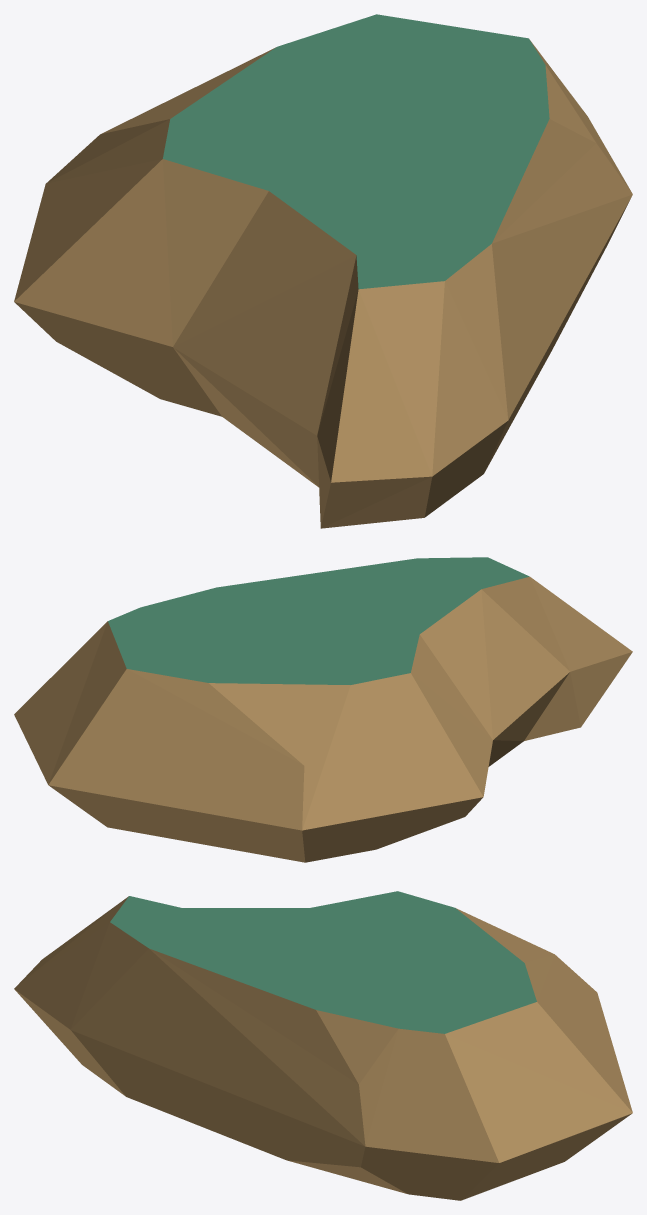
The model's file is Rock_Medium_Mesa_Eroded_Moss_Grass_Flat_01.FBX.
3 renders of one model, top to bottom at view 1: azimuth 30°, elevation 25°; view 2: azimuth 150°, elevation 25°; view 3: azimuth 270°, elevation 25°, orthographic. The views are drawn at different scales.
Parts seen in each view (by area): view 1: Rock_Medium_Mesa_Eroded_Moss_Grass_Flat_01; view 2: Rock_Medium_Mesa_Eroded_Moss_Grass_Flat_01; view 3: Rock_Medium_Mesa_Eroded_Moss_Grass_Flat_01.
Boxes of the visible parts, x1,y1,x2,y2 form: Rock_Medium_Mesa_Eroded_Moss_Grass_Flat_01: (14, 14, 632, 528); Rock_Medium_Mesa_Eroded_Moss_Grass_Flat_01: (14, 557, 632, 862); Rock_Medium_Mesa_Eroded_Moss_Grass_Flat_01: (14, 891, 632, 1200).
Size of the model in its own units: 3561 by 1170 by 4185.
